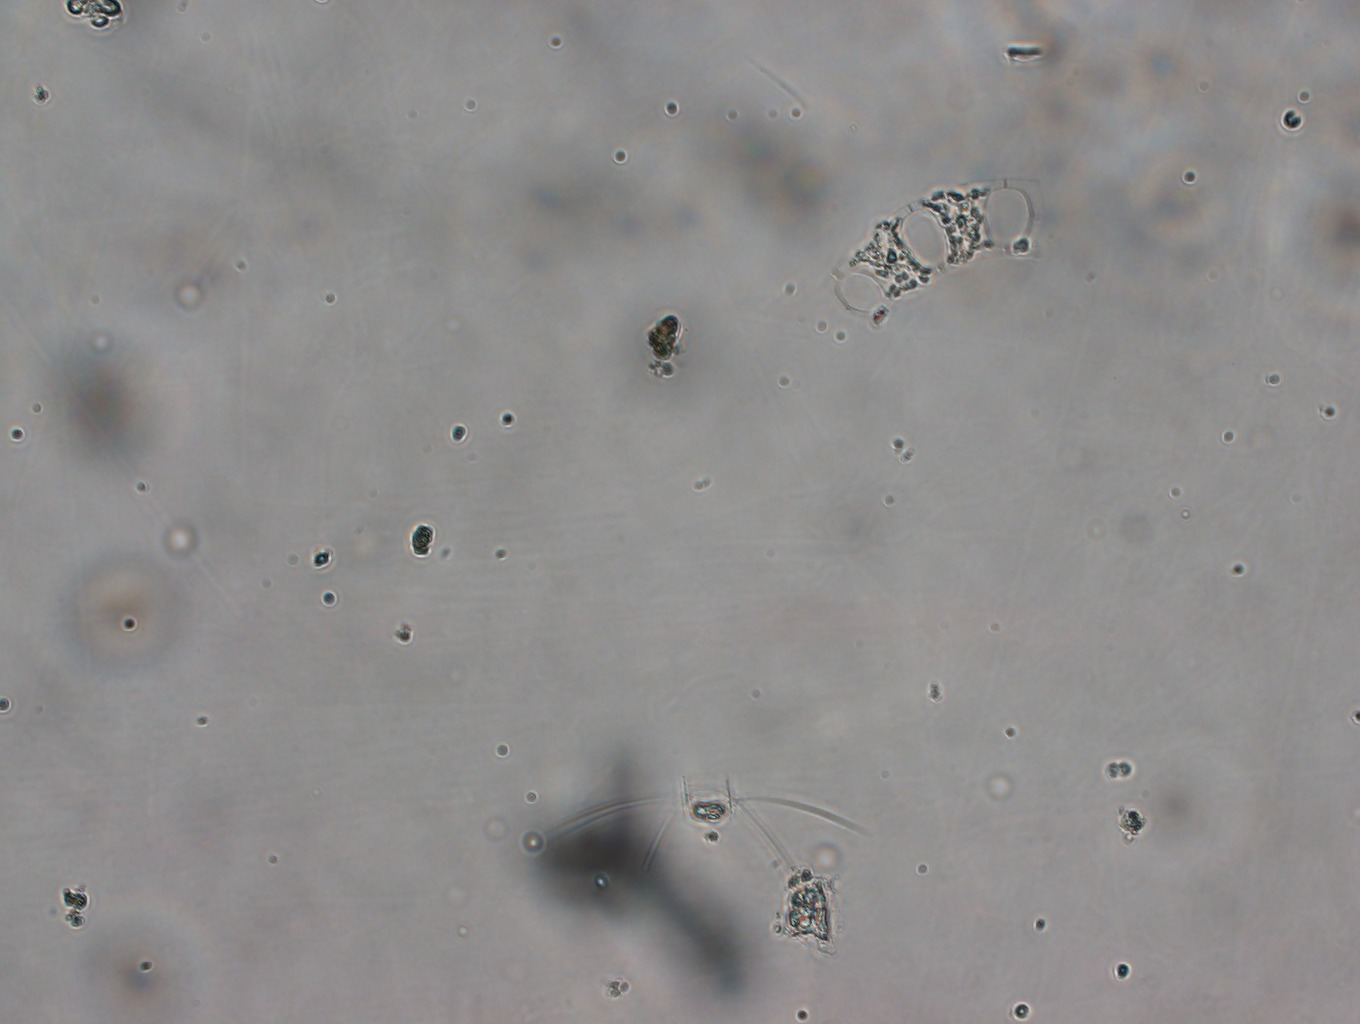chaetoceros: (529, 768, 870, 893)
eucampia: (814, 166, 1049, 352)
